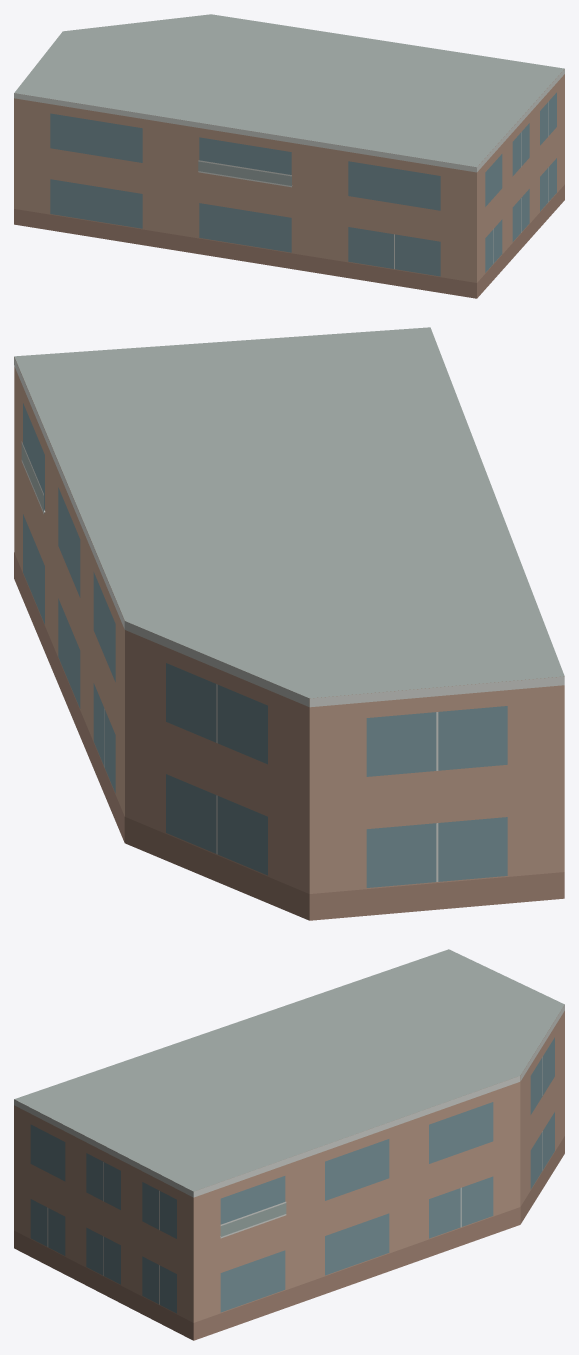
File: survey-upis-32852389.glb
3 renders of one model, top to bottom at view 1: azimuth 30°, elevation 25°; view 2: azimuth 150°, elevation 25°; view 3: azimuth 270°, elevation 25°, orthographic. The views are drawn at different scales.
Parts seen in each view (by area): view 1: survey-upis-32852389.tmp; view 2: survey-upis-32852389.tmp; view 3: survey-upis-32852389.tmp.
Boxes of the visible parts, x1,y1,x2,y2 form: survey-upis-32852389.tmp: (14,14,564,298); survey-upis-32852389.tmp: (14,327,564,920); survey-upis-32852389.tmp: (14,949,564,1340).
Bounding box in the file's own units: 21.29 × 6.1 × 20.44.
